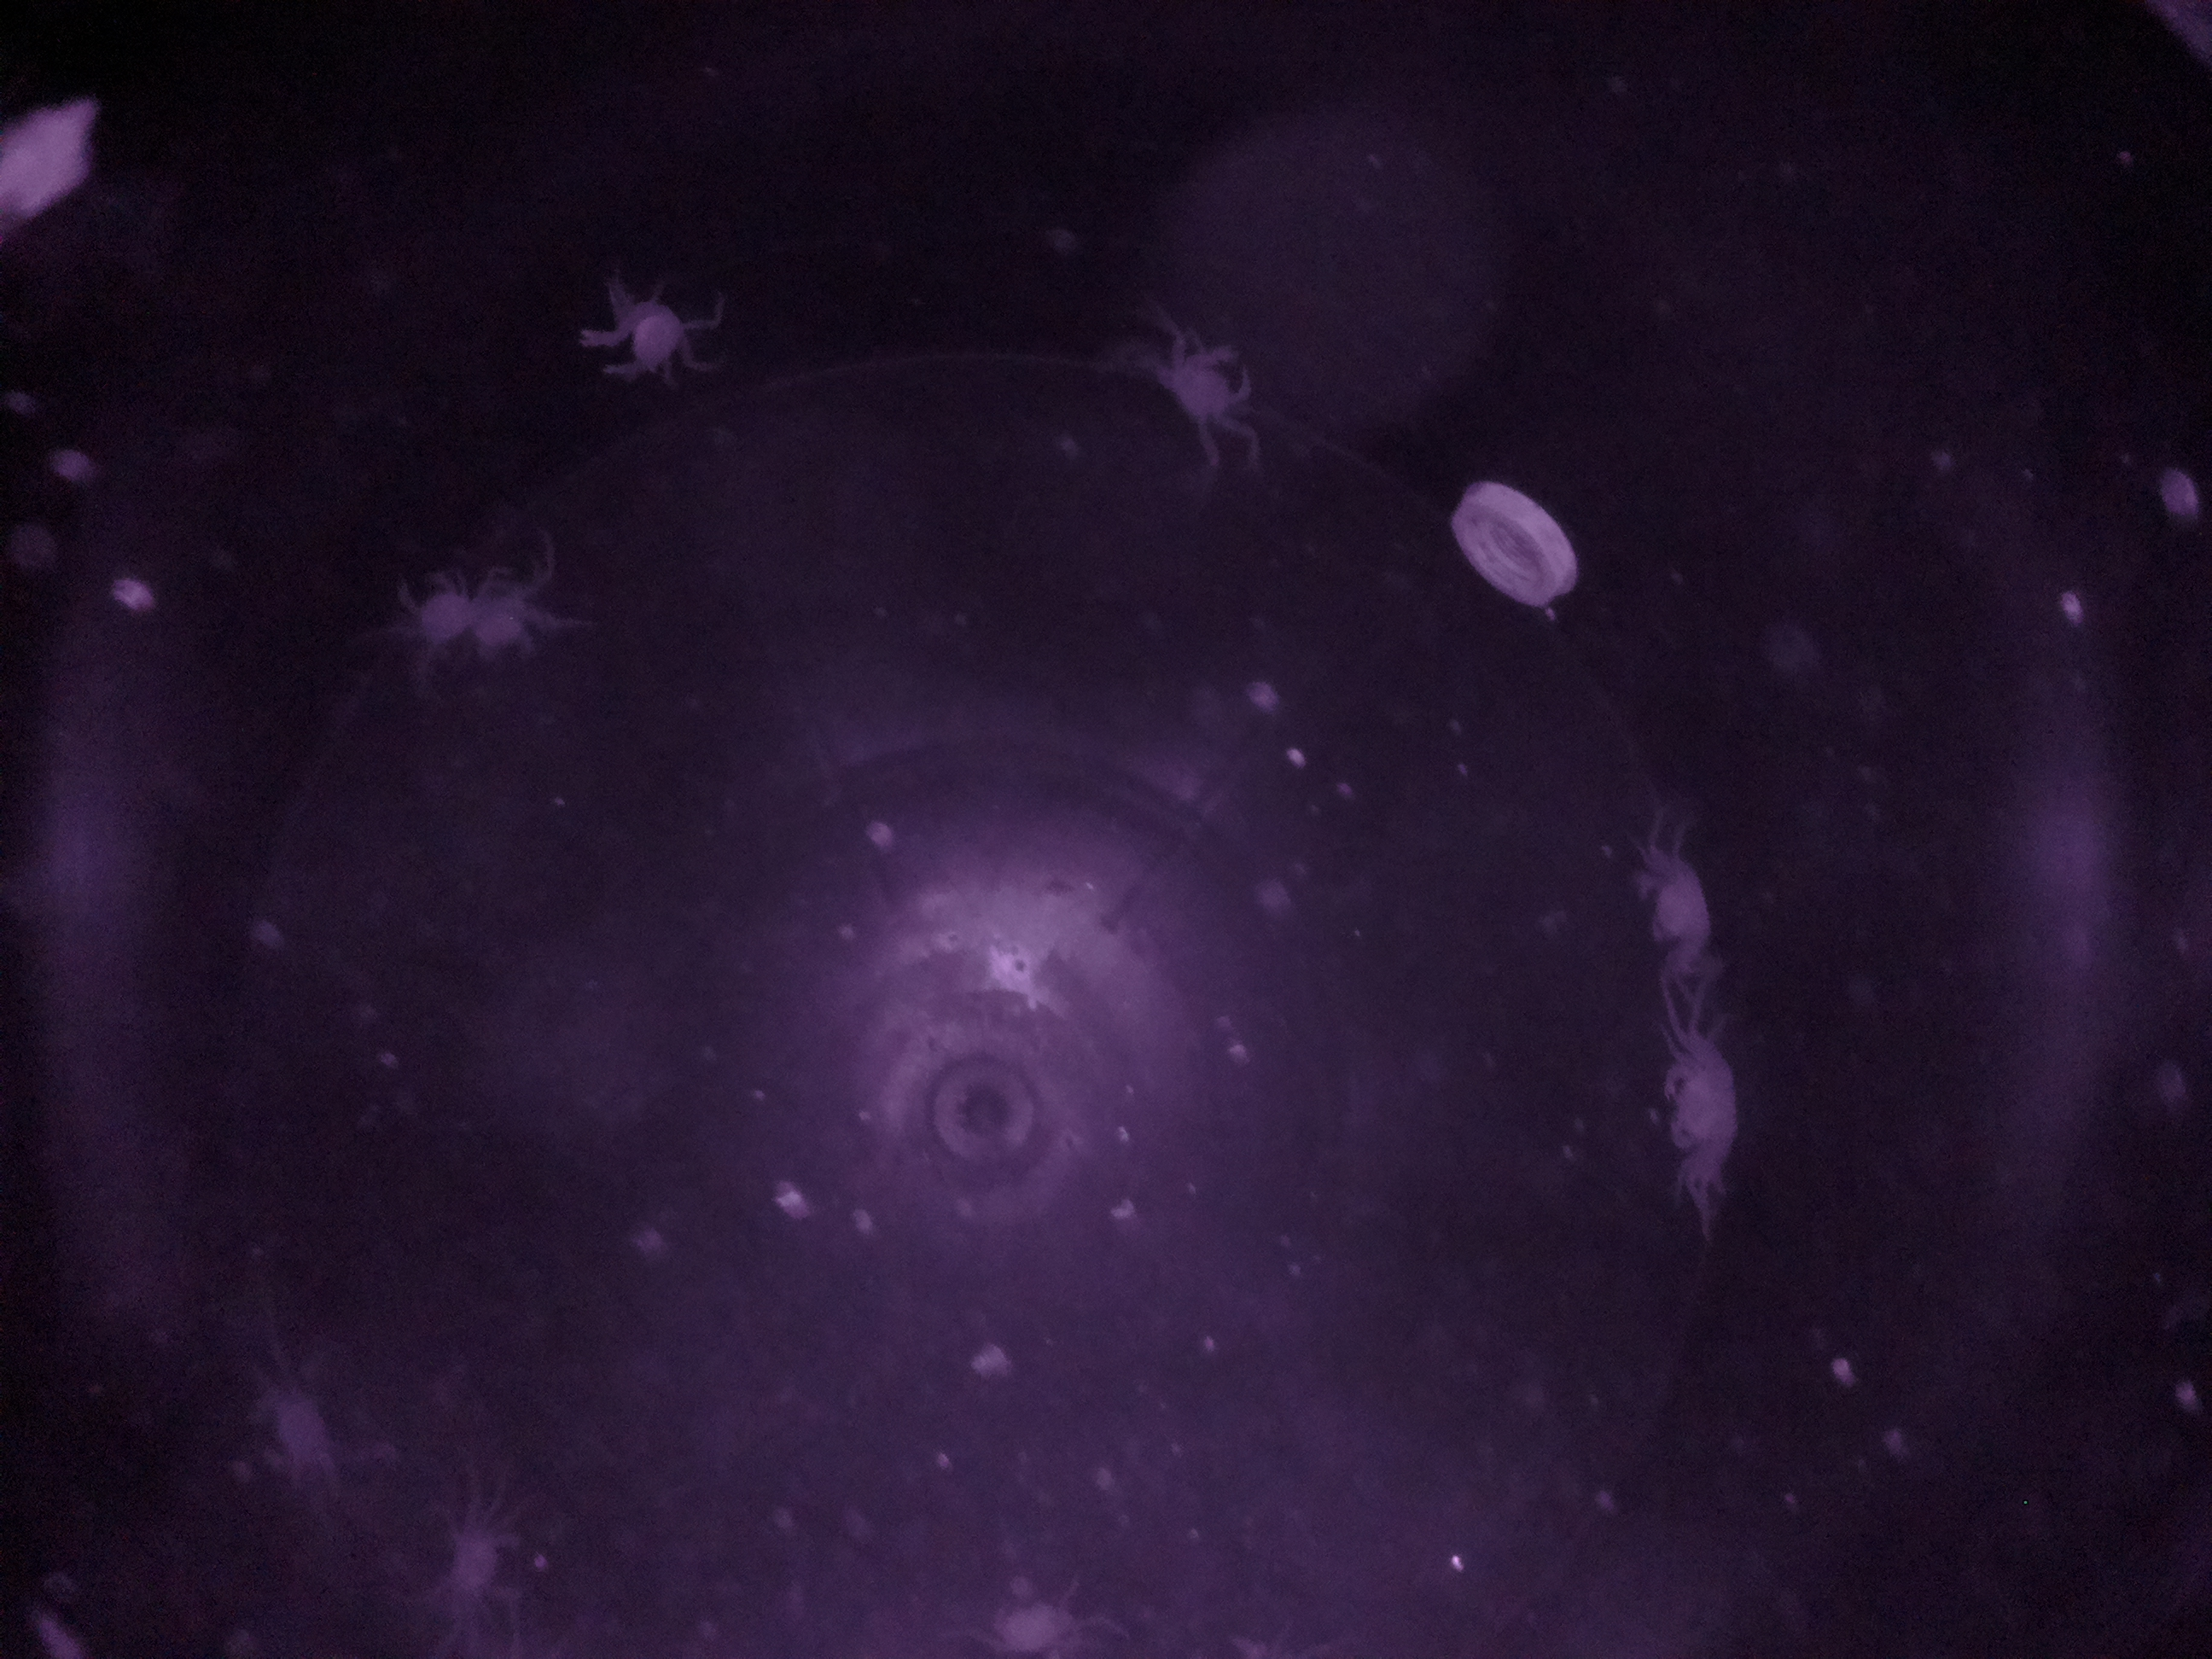Crab: (1620, 836, 1749, 976), (1642, 1032, 1757, 1175), (1155, 340, 1271, 434)
